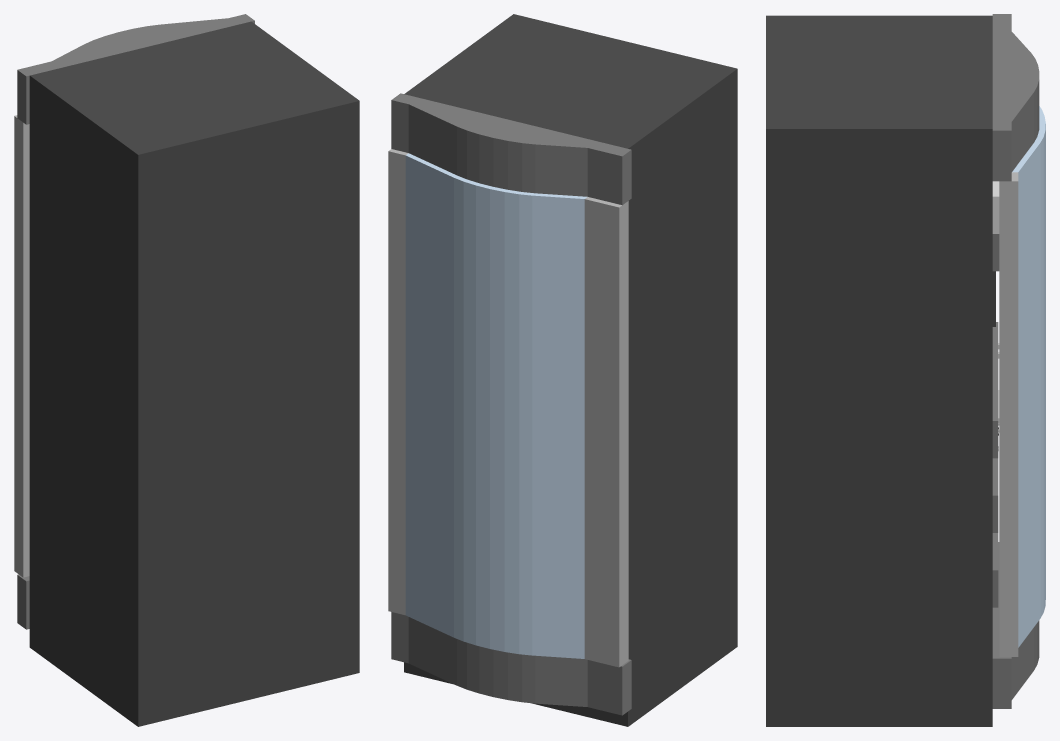
File: server.fbx
The picture shows the model from 3 angles, left to right: view 1: azimuth 30°, elevation 25°; view 2: azimuth 150°, elevation 25°; view 3: azimuth 270°, elevation 25°; orthographic projection. The views are drawn at different scales.
Visible parts, largest first — view 1: Cube.001; view 2: Cube.001; view 3: Cube.001.
Boxes of the visible parts, box(x1,y1,x2,y2) form: Cube.001: box(14, 14, 359, 726); Cube.001: box(388, 14, 737, 726); Cube.001: box(766, 14, 1045, 726).
Bounding box in the file's own units: 3.41 × 8.14 × 3.45.
